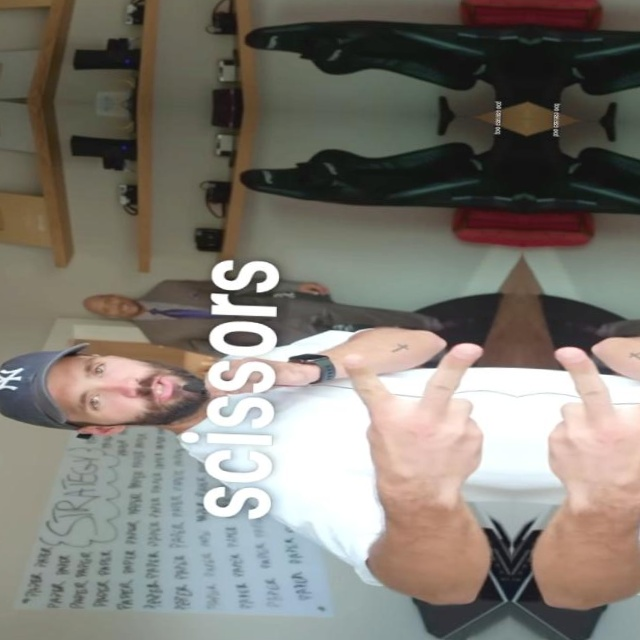Scissors: (336, 338, 491, 504)
